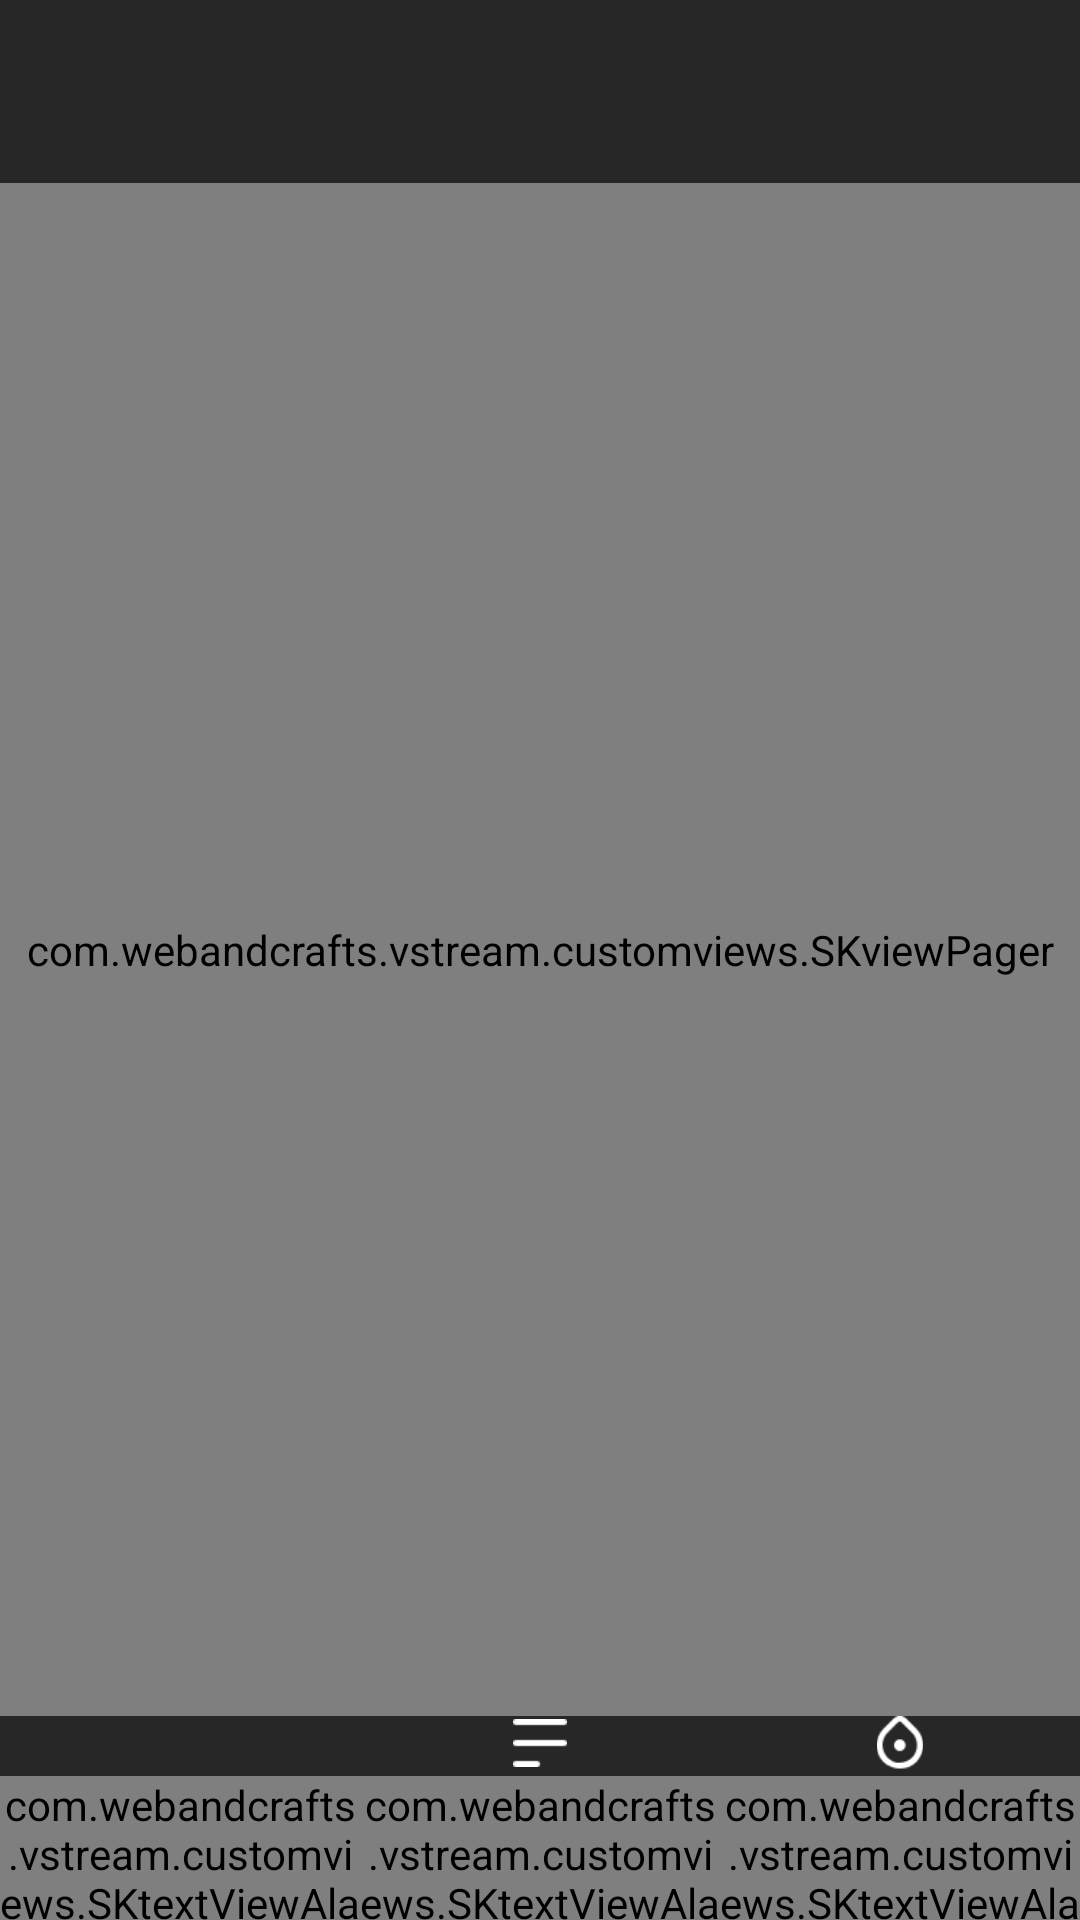

Named icons in this screenshot (1080px x 1920px) and their bounding boxes, Rect(x1, y1, x2, y2):
programe: Rect(513, 1719, 567, 1767)
